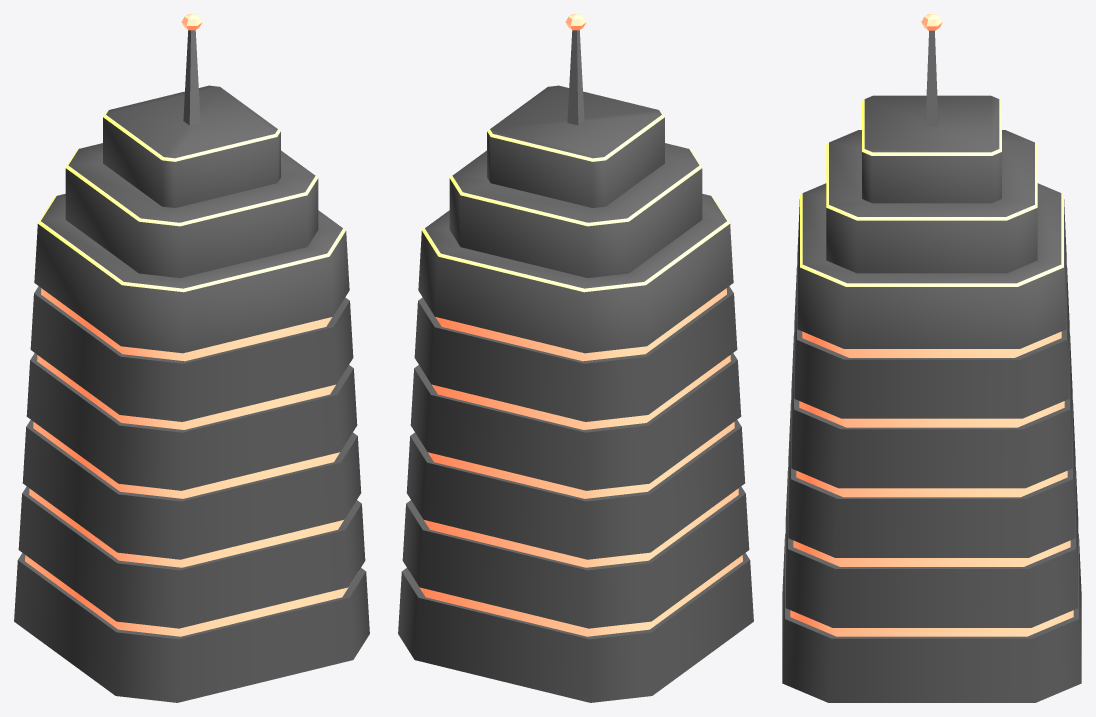
File: mesh_Rooftop_Background_Building_D.fbx
The picture shows the model from 3 angles, left to right: view 1: azimuth 30°, elevation 25°; view 2: azimuth 150°, elevation 25°; view 3: azimuth 270°, elevation 25°; orthographic projection.
Visible parts, largest first — view 1: mesh_Rooftop_Background_Building_D; view 2: mesh_Rooftop_Background_Building_D; view 3: mesh_Rooftop_Background_Building_D.
Boxes of the visible parts, x1,y1,x2,y2 form: mesh_Rooftop_Background_Building_D: (14, 14, 369, 702); mesh_Rooftop_Background_Building_D: (398, 14, 753, 702); mesh_Rooftop_Background_Building_D: (782, 14, 1081, 702).
Size of the model in its own units: 10.4 by 23.97 by 10.4.
